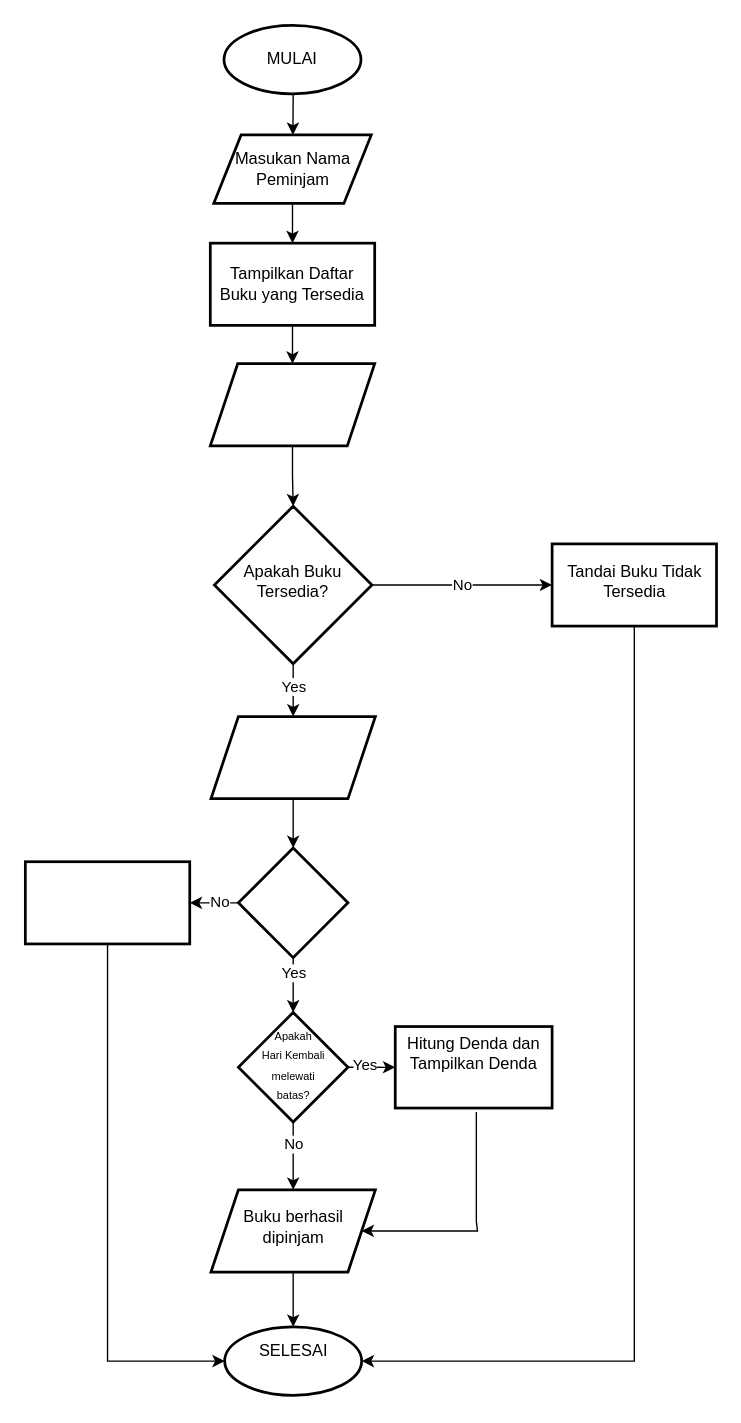
The diagram is 741 pixels wide and 1423 high, and some of its shapes have lost their labels. Each missing label, with the box of its shape:
Apakah Hari Valid?: (236, 846, 349, 958)
Input Hari Pinjam dan Hari Kembali: (209, 714, 376, 799)
Input Hari Salah: (23, 860, 190, 945)
Pilih List Buku yang akan di Pinjam: (208, 362, 375, 447)
